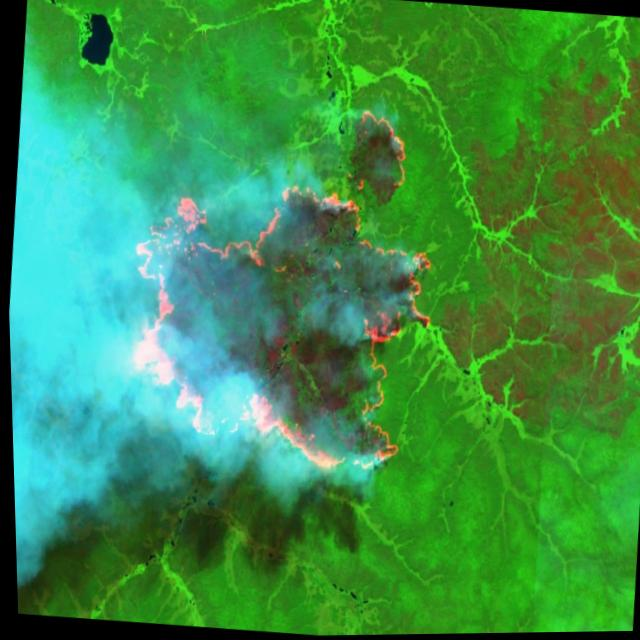fire: (103, 79, 458, 491)
